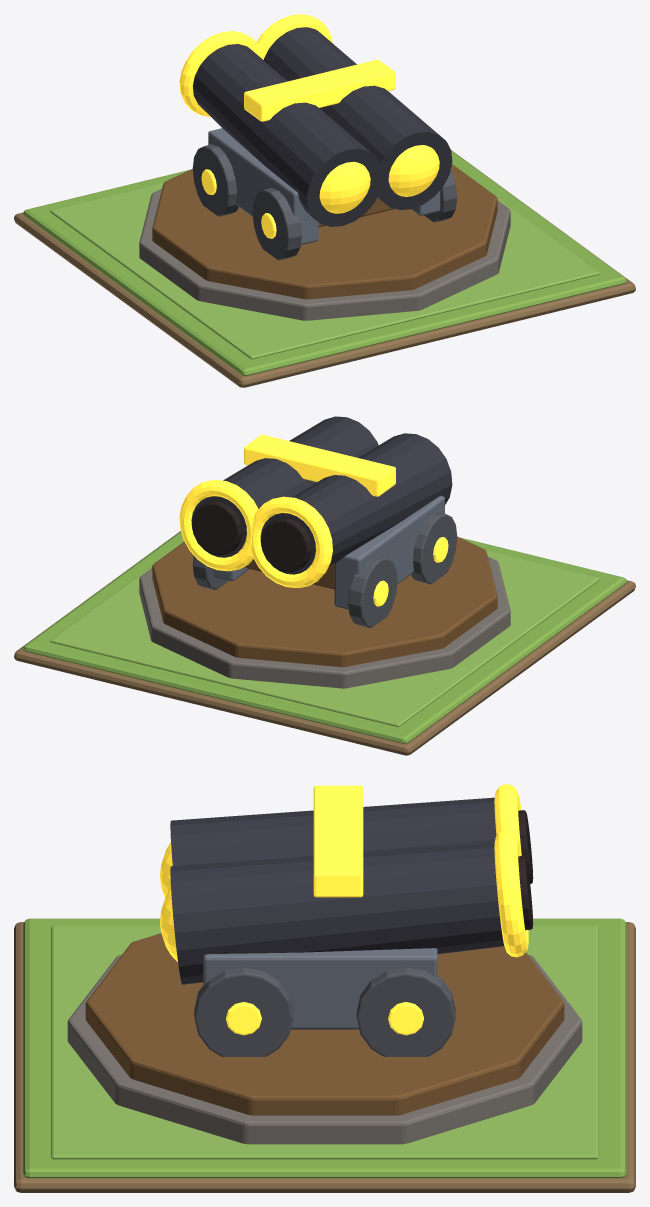
File: double_cannon_lv8.glb
3 renders of one model, top to bottom at view 1: azimuth 30°, elevation 25°; view 2: azimuth 150°, elevation 25°; view 3: azimuth 270°, elevation 25°, orthographic. The views are drawn at different scales.
Parts seen in each view (by area): view 1: TurntableWood, Base_Inner, Base_Grass, TwinBarrel_-1, TwinBarrel_1, TurntableStone, Base_Dirt, TwinYokeStrap, DC_Cheek_-1, DC_Wheel_-1_-1, DC_Wheel_-1_1, TwinBreech_-1 (+4 smaller); view 2: TurntableWood, Base_Inner, Base_Grass, TwinBarrel_-1, TurntableStone, Base_Dirt, TwinBarrel_1, TwinYokeStrap, DC_Cheek_-1, TwinMuzzleLip_-1, TwinMuzzleLip_1, DC_Wheel_-1_1 (+4 smaller); view 3: TurntableWood, Base_Inner, TwinBarrel_1, Base_Grass, TurntableStone, Base_Dirt, TwinBarrel_-1, DC_Cheek_1, DC_Wheel_1_1, DC_Wheel_1_-1, TwinYokeStrap, TwinMuzzleLip_1 (+6 smaller).
Part boxes in pixels (x1,y1,x2,y2): TurntableWood: (152,164,497,299); Base_Inner: (50,182,599,359); Base_Grass: (23,150,626,375); TwinBarrel_-1: (192,44,382,226); TwinBarrel_1: (264,27,452,210); TurntableStone: (139,189,510,320); Base_Dirt: (14,150,635,387); TwinYokeStrap: (244,59,395,121); DC_Cheek_-1: (208,128,318,245); DC_Wheel_-1_-1: (252,188,301,260); DC_Wheel_-1_1: (192,144,238,216); TwinBreech_-1: (319,161,370,213); TurntableWood: (152,536,497,667); Base_Inner: (50,550,599,726); Base_Grass: (23,531,626,743); TwinBarrel_-1: (260,433,452,574); TurntableStone: (139,556,510,688); Base_Dirt: (14,531,635,755); TwinBarrel_1: (191,416,378,557); TwinYokeStrap: (244,434,395,496); DC_Cheek_-1: (334,495,444,609); TwinMuzzleLip_-1: (251,496,332,587); TwinMuzzleLip_1: (179,480,258,571); DC_Wheel_-1_1: (348,555,397,627); TurntableWood: (85,933,564,1115); Base_Inner: (51,926,598,1159); TwinBarrel_1: (170,843,504,984); Base_Grass: (23,918,626,1177); TurntableStone: (67,955,582,1144); Base_Dirt: (14,922,635,1192); TwinBarrel_-1: (170,797,496,865); DC_Cheek_1: (203,948,437,1029); DC_Wheel_1_1: (356,967,455,1056); DC_Wheel_1_-1: (194,967,293,1056); TwinYokeStrap: (313,785,363,897); TwinMuzzleLip_1: (494,830,528,957).
Size of the model in its own units: 2.76 by 1.23 by 2.76.
